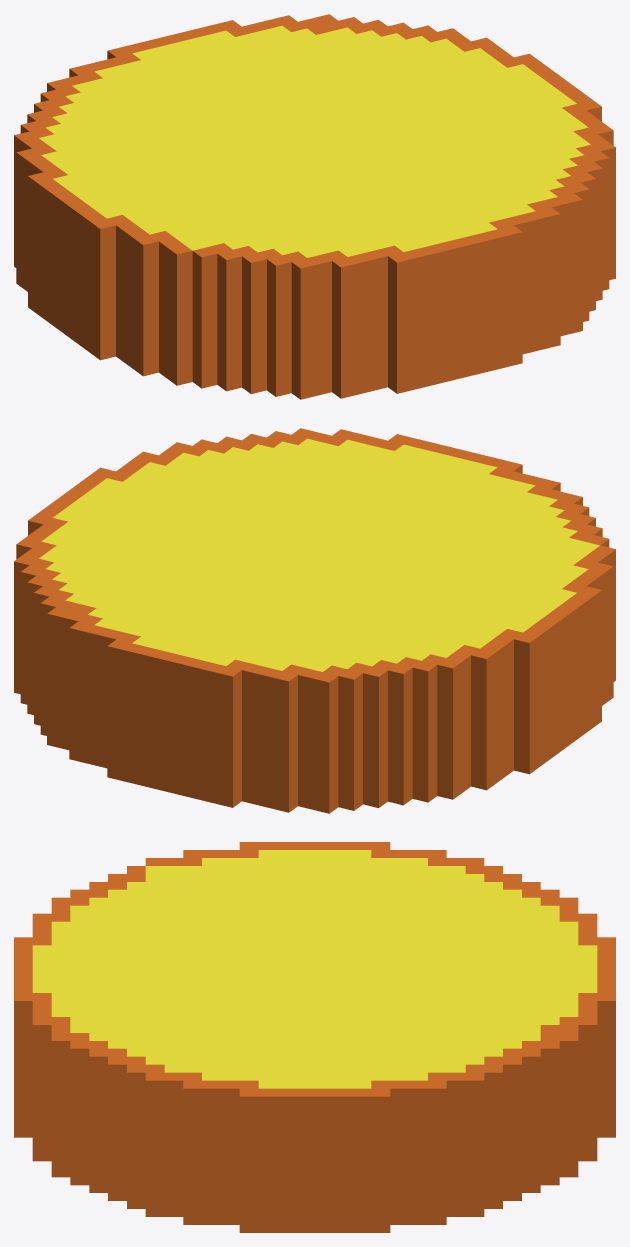
Rendered from empty_coin.obj.
The picture shows the model from 3 angles, top to bottom: view 1: azimuth 30°, elevation 25°; view 2: azimuth 150°, elevation 25°; view 3: azimuth 270°, elevation 25°; orthographic projection. The views are drawn at different scales.
Size of the model in its own units: 3.2 by 0.8 by 3.2.
1 material, 1 textured.
